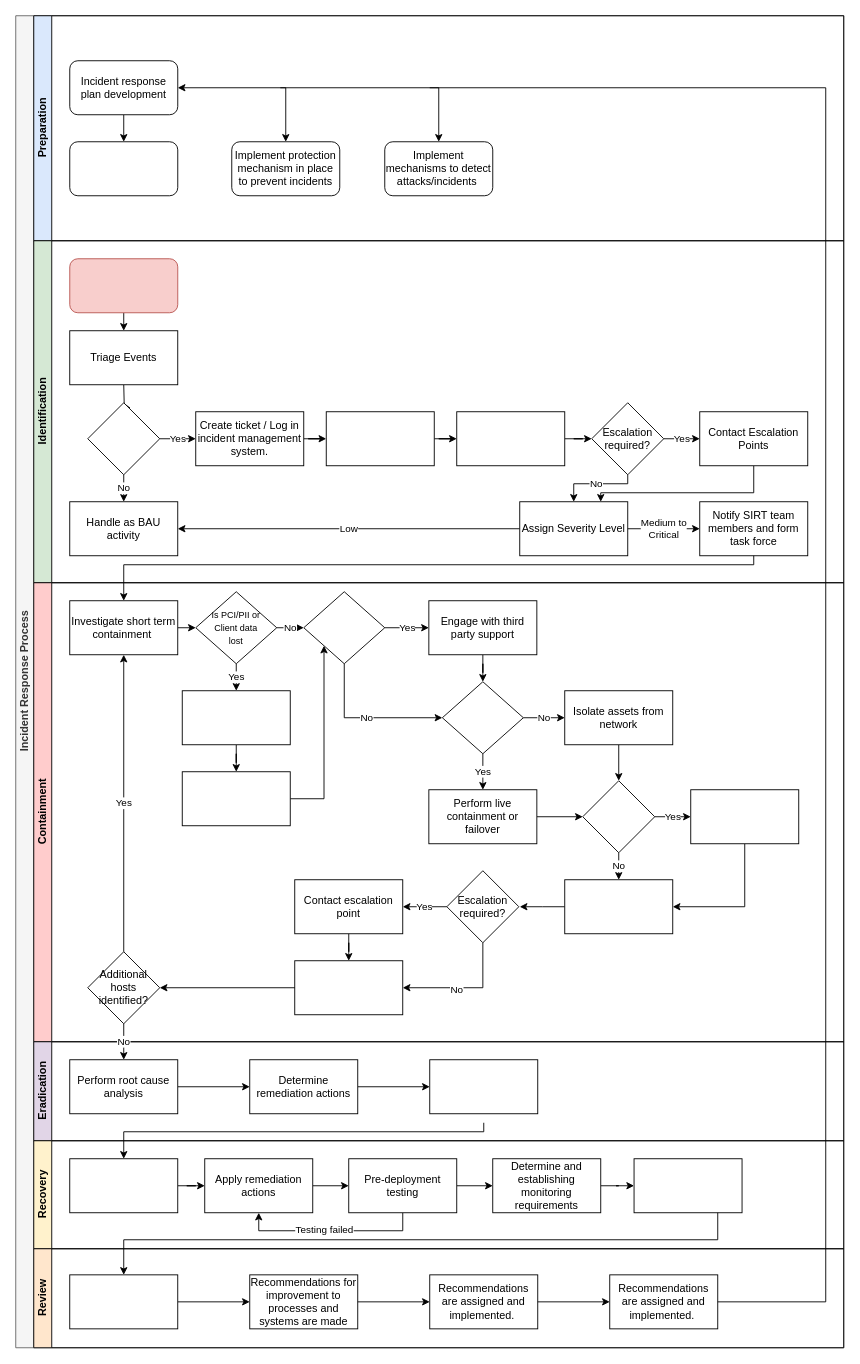
Some shapes in this 860 by 1364 pixel diagram are drawn without their labels. The shapes that lost their labels are listed below. From the top down, each one's centre as x and y in pixels, then its label:
At point 123,168: "Incident response plan training".
At point 123,285: "Security Events, User or Third Party Notification received".
At point 123,438: "Incident".
At point 379,438: "Further analysis and collection".
At point 510,438: "Determine scope of incident".
At point 344,627: "External Support Required?".
At point 235,717: "Consult with Legal Counsel and Executive Management".
At point 482,717: "Are Assets Critical?".
At point 235,798: "Contact acquiring bank / payment brand or other required external body".
At point 618,816: "Forensic image required?".
At point 744,816: "Perform forensic imaging".
At point 618,906: "Begin long term containment".
At point 348,987: "Search for additional compromised hosts".
At point 483,1086: "Perform remediation actions".
At point 123,1185: "Rebuild systems".
At point 687,1185: "Re-introduce asset(s) into production".
At point 123,1301: "Lessons learned meeting held with SIRT, Task Force and other stakeholders".
